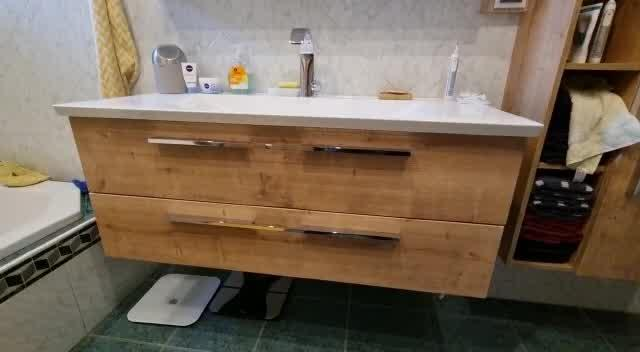cabinet_door: (81, 117, 524, 207), (86, 207, 519, 276)
handle: (144, 136, 419, 164), (163, 214, 405, 245)
